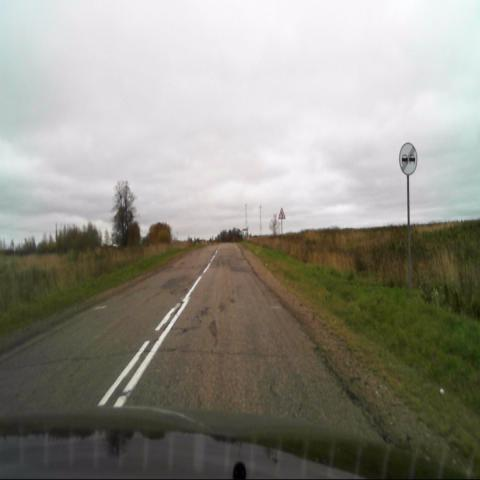3_21: (398, 140, 418, 176)
